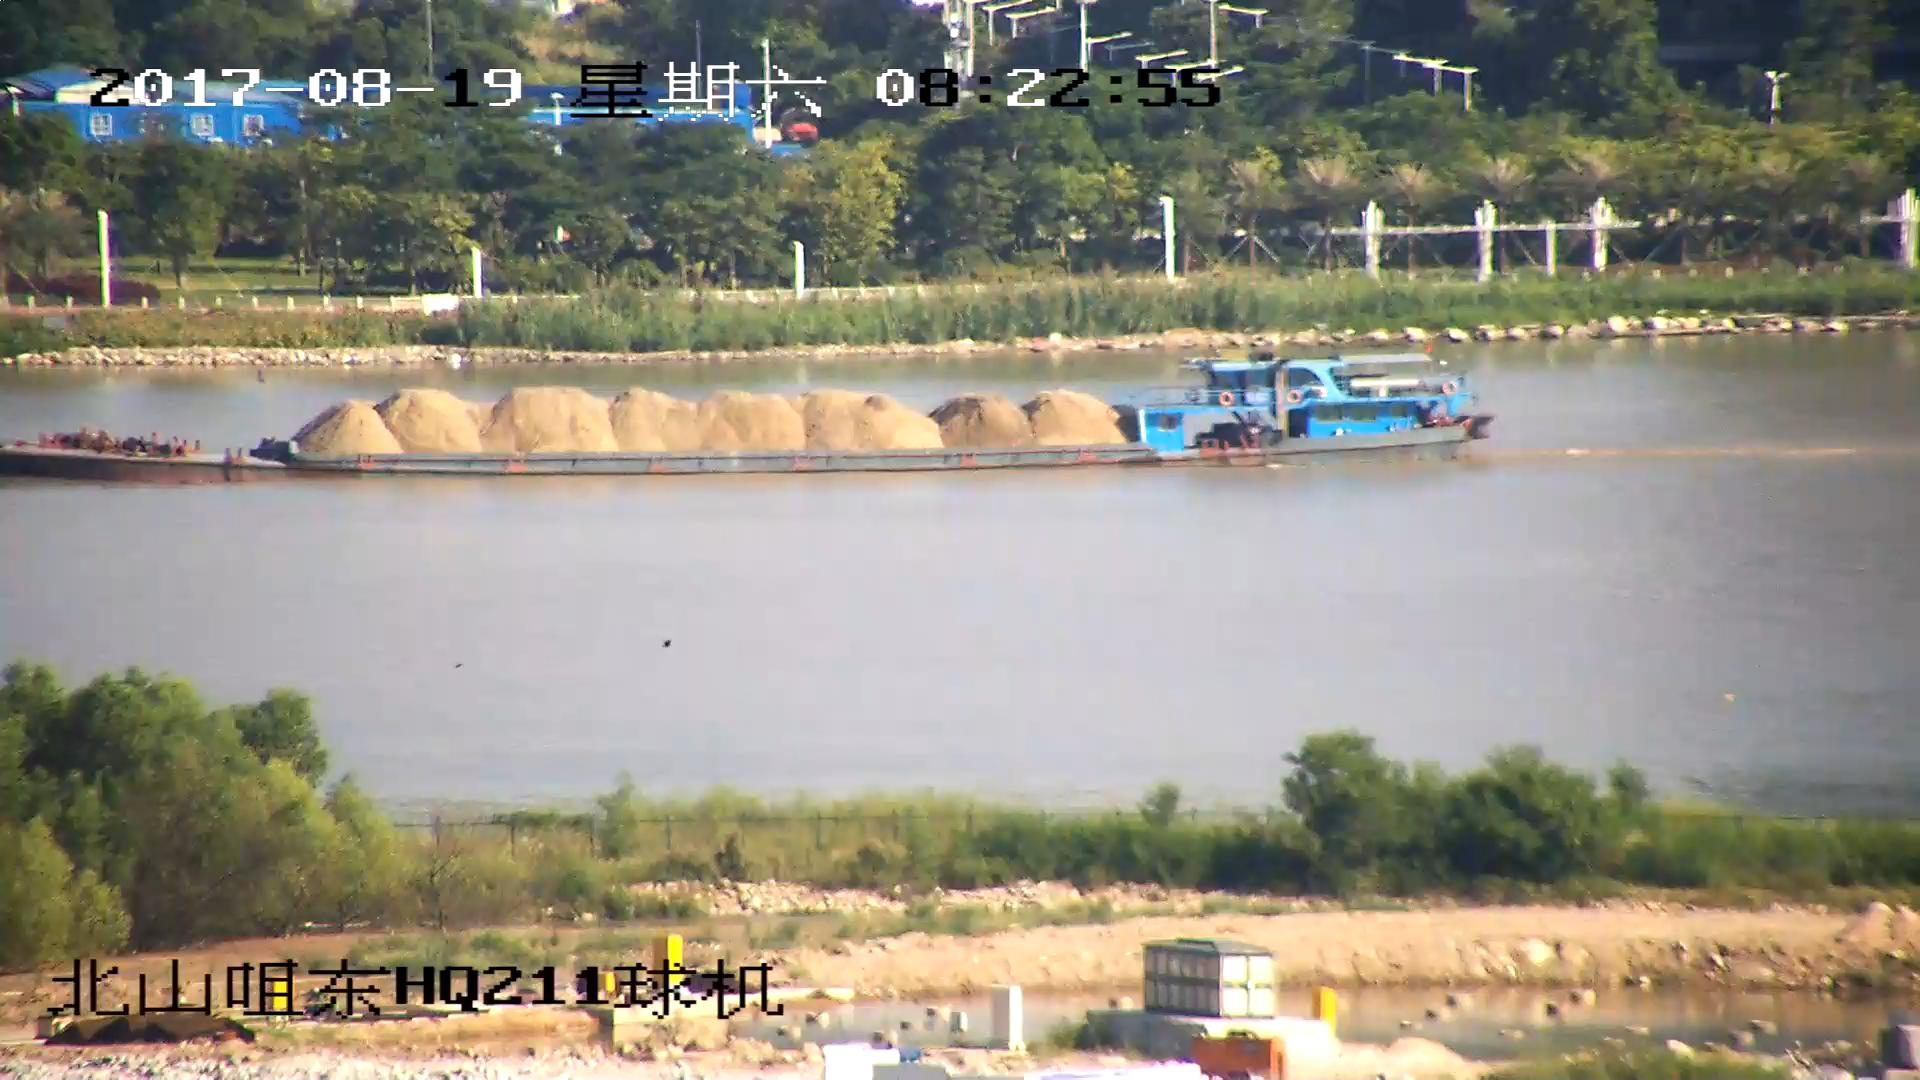ore carrier: (1, 347, 1497, 486)
